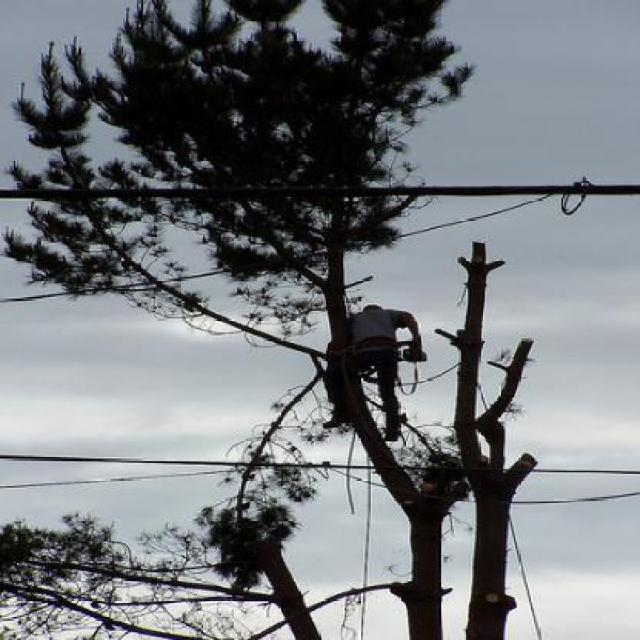Chainsaw: (386, 335, 428, 368)
